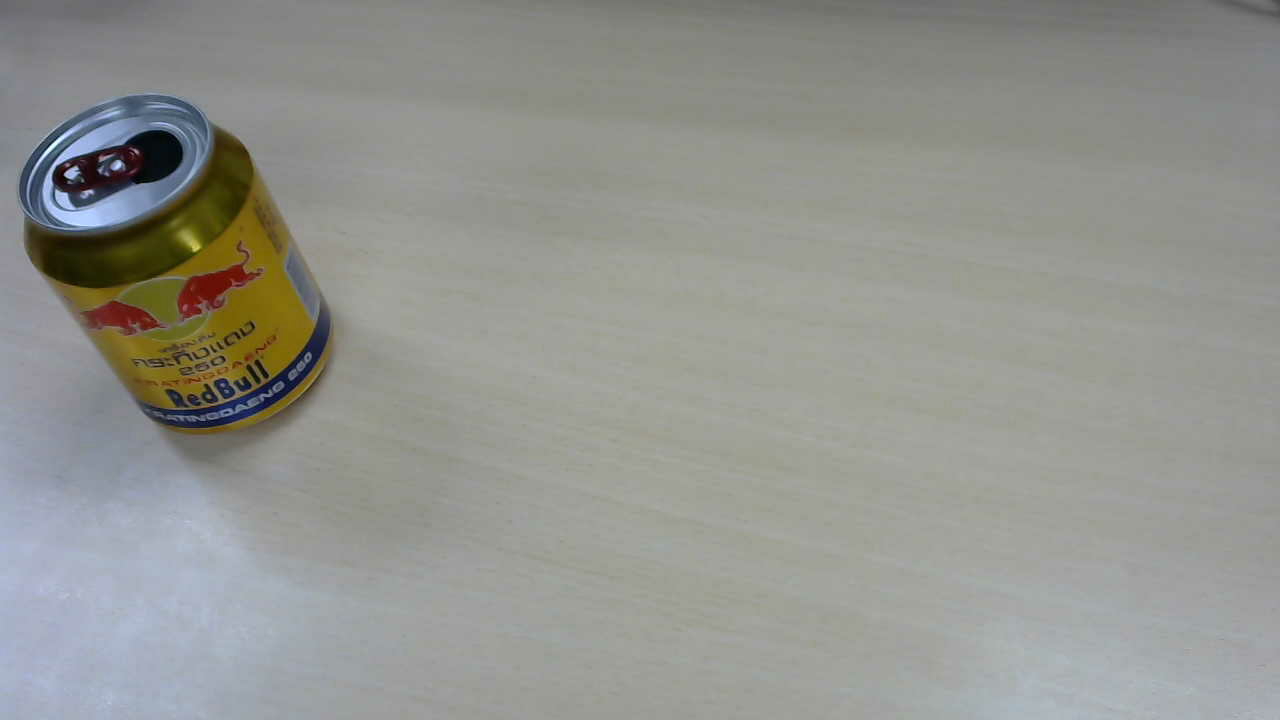Red_Bull: (22, 99, 341, 439)
